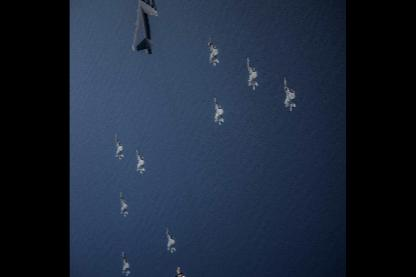B2: (132, 0, 158, 55)
C5: (172, 264, 187, 275)
F15: (284, 77, 295, 110), (248, 56, 258, 88), (209, 35, 218, 65), (214, 95, 223, 124), (136, 146, 145, 172), (166, 225, 175, 251), (119, 190, 128, 215), (121, 249, 130, 274), (114, 133, 122, 159)
